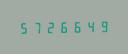five: (17, 20, 29, 34)
four: (82, 19, 94, 33)
nine: (95, 19, 107, 33)
seven: (30, 20, 42, 34)
six: (69, 19, 81, 33), (56, 20, 68, 33)
two: (43, 20, 55, 34)
